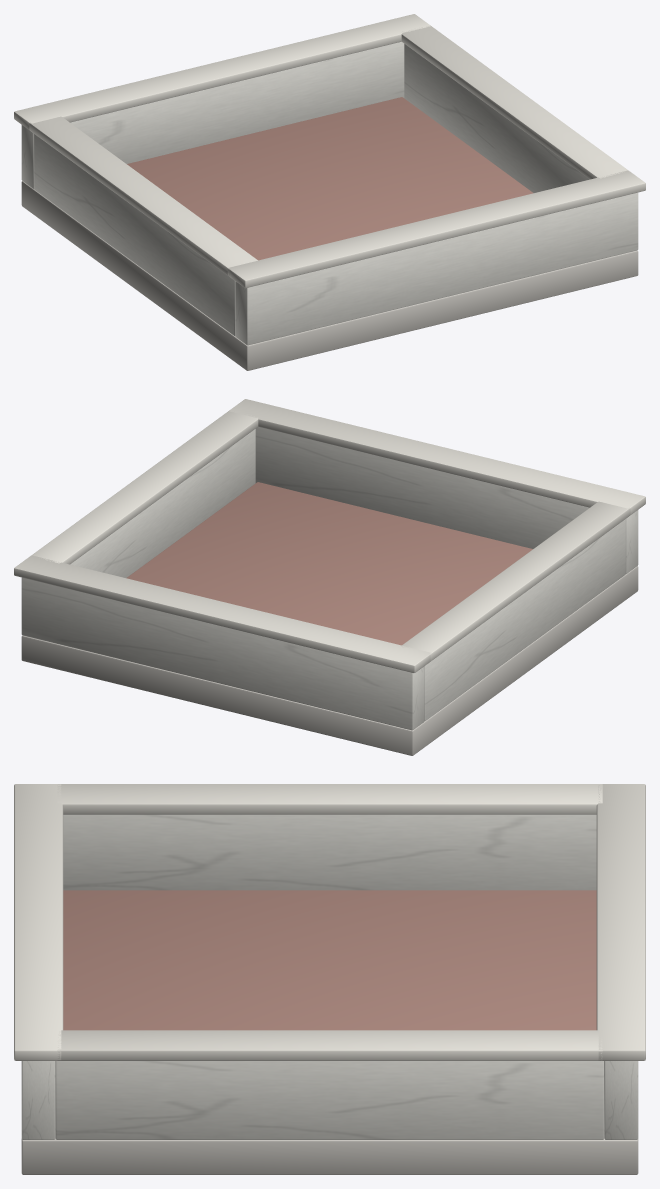
The model's file is th34_dach_flach.glb.
3 renders of one model, top to bottom at view 1: azimuth 30°, elevation 25°; view 2: azimuth 150°, elevation 25°; view 3: azimuth 270°, elevation 25°, orthographic. The views are drawn at different scales.
Parts seen in each view (by area): view 1: Cube.001, Cube.002, Cube.004, Cube, Cube.003, Cube.006, Cube.008, Cube.005, Cube.007, Cube.009; view 2: Cube.001, Cube.004, Cube.002, Cube, Cube.003, Cube.008, Cube.006, Cube.005, Cube.007, Cube.009; view 3: Cube.001, Cube.005, Cube.003, Cube, Cube.007, Cube.009, Cube.006, Cube.008, Cube.002, Cube.004.
Part boxes in pixels (x1,y1,x2,y2): Cube.001: [127, 97, 533, 260]; Cube.002: [235, 192, 638, 345]; Cube.004: [21, 41, 404, 188]; Cube: [21, 181, 638, 370]; Cube.003: [34, 134, 235, 335]; Cube.006: [227, 170, 645, 287]; Cube.008: [14, 14, 430, 129]; Cube.005: [404, 44, 589, 192]; Cube.007: [29, 116, 257, 276]; Cube.009: [401, 25, 629, 179]; Cube.001: [126, 482, 532, 645]; Cube.004: [21, 577, 424, 730]; Cube.002: [255, 426, 638, 573]; Cube: [21, 566, 638, 755]; Cube.003: [424, 519, 625, 720]; Cube.008: [14, 555, 431, 672]; Cube.006: [229, 399, 645, 514]; Cube.005: [70, 429, 255, 577]; Cube.007: [401, 501, 630, 661]; Cube.009: [30, 410, 258, 564]; Cube.001: [63, 890, 596, 1030]; Cube.005: [55, 1061, 604, 1139]; Cube.003: [63, 814, 596, 890]; Cube: [21, 1138, 638, 1174]; Cube.007: [57, 784, 602, 814]; Cube.009: [57, 1030, 602, 1060]; Cube.006: [14, 784, 63, 1060]; Cube.008: [596, 784, 645, 1060]; Cube.002: [21, 1061, 55, 1139]; Cube.004: [604, 1061, 638, 1139].
Size of the model in its own units: 4.1 by 0.92 by 4.1.
4 materials, 1 textured.
